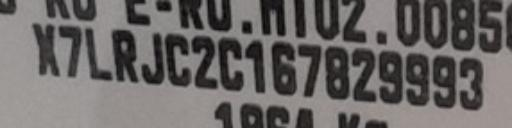letter: (109, 28, 141, 84), (30, 23, 62, 77), (82, 26, 114, 80), (189, 33, 219, 89), (163, 29, 191, 87), (216, 35, 244, 91), (270, 39, 298, 95), (322, 44, 350, 100), (349, 46, 377, 102), (376, 47, 404, 103), (429, 53, 457, 109), (456, 55, 484, 111), (405, 49, 431, 105), (57, 24, 83, 78), (140, 30, 166, 84), (296, 42, 322, 96), (242, 37, 266, 93)
